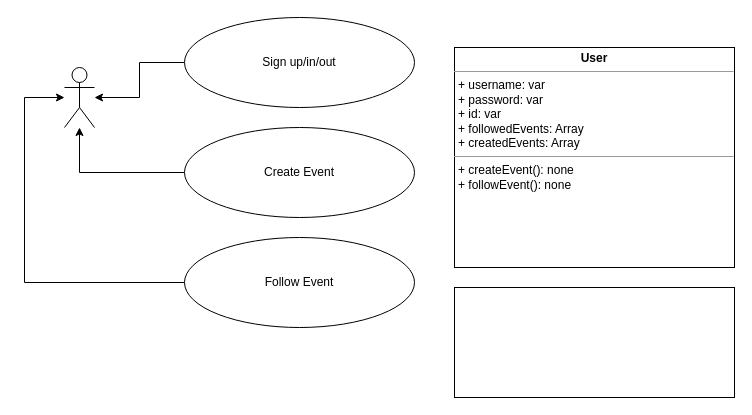
Some shapes in this 752 by 415 pixel diagram are drawn without their labels. The centre of each missing label's shape, as x and y in pixels:
"Event + name: var + creator: User + id: var + followers: Array" goes at [594,342].
"User" goes at [79,97].
